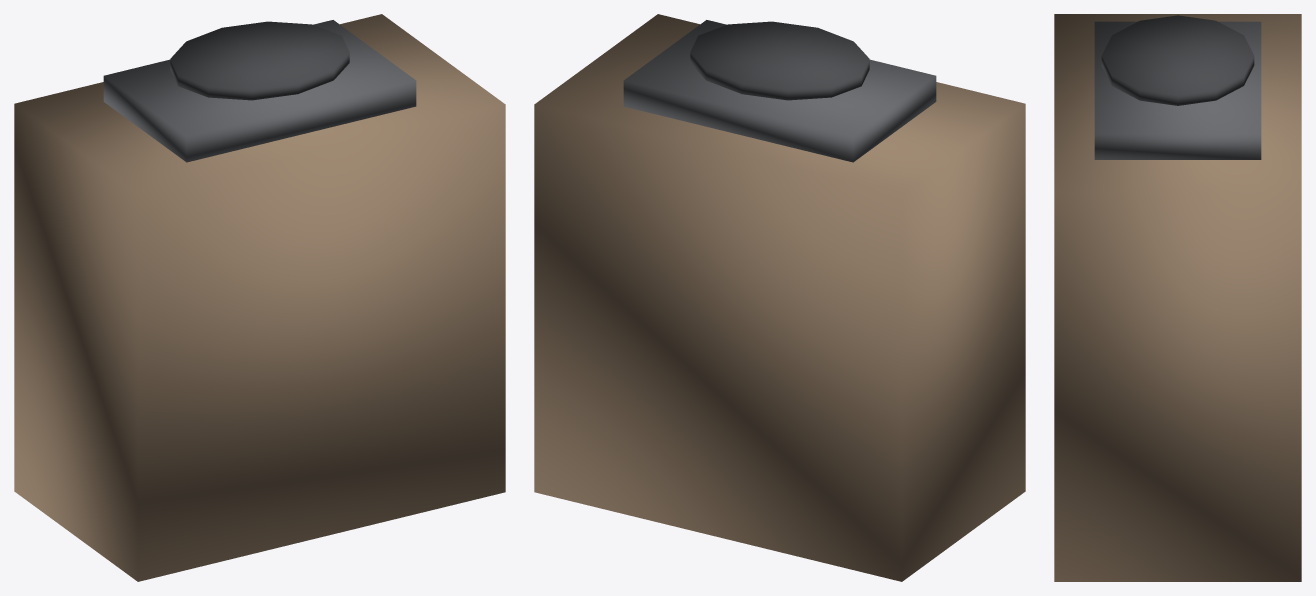
File: record_store_listening_station__wide.glb
3 views of the same model, side by side, from view 1: azimuth 30°, elevation 25°; view 2: azimuth 150°, elevation 25°; view 3: azimuth 270°, elevation 25° (orthographic).
Parts seen in each view (by area): view 1: world; view 2: world; view 3: world.
Part boxes in pixels (x1,y1,x2,y2): world: [14, 14, 505, 581]; world: [534, 14, 1025, 581]; world: [1054, 14, 1301, 581].
Size of the model in its own units: 0.8928 by 1.01 by 0.52.
